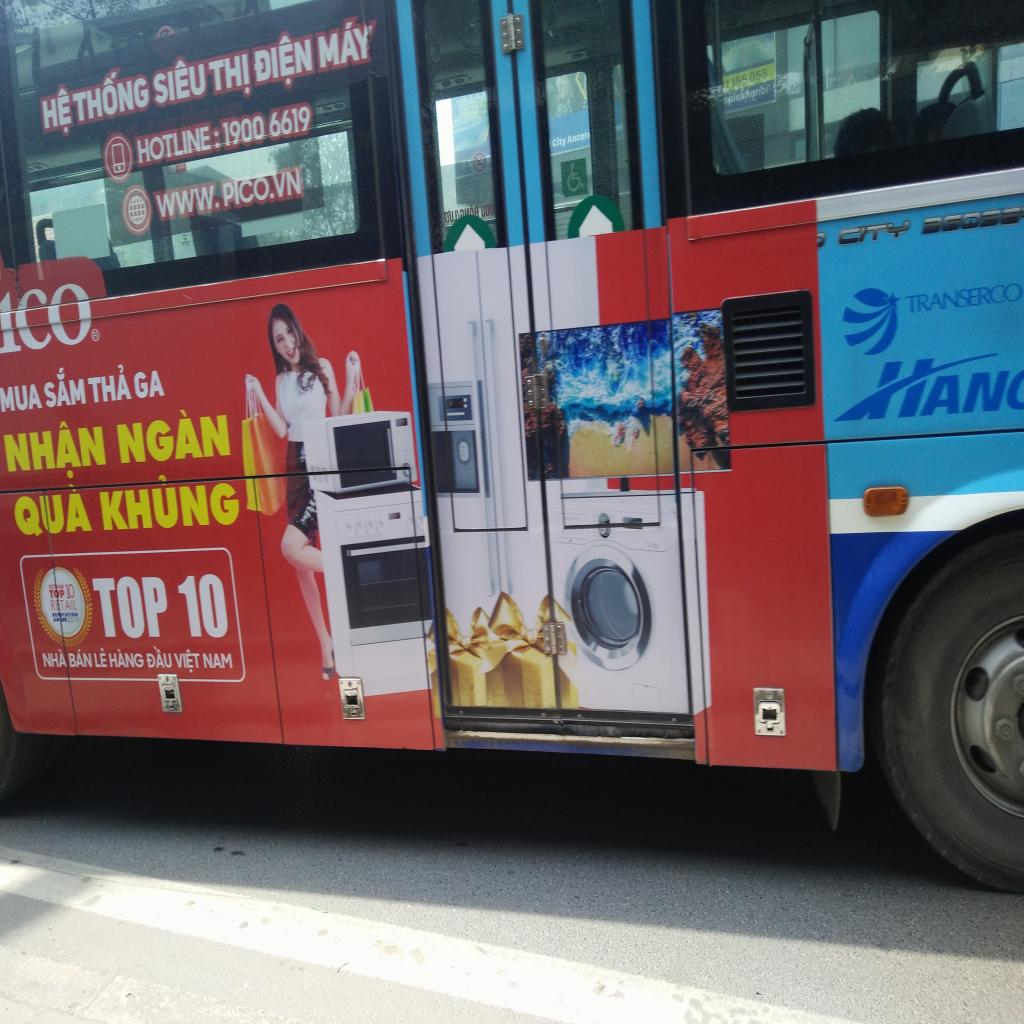text: (824, 350, 1018, 426), (96, 467, 241, 536), (152, 167, 304, 224), (112, 402, 235, 468), (2, 417, 108, 483), (10, 278, 92, 356), (69, 64, 152, 128), (91, 578, 173, 640), (9, 483, 95, 542), (903, 278, 1022, 318), (250, 28, 315, 94), (220, 105, 312, 150), (314, 11, 378, 73), (133, 122, 220, 167), (174, 573, 228, 638), (149, 52, 207, 108), (204, 49, 252, 104), (32, 83, 76, 141), (86, 361, 134, 408), (38, 366, 88, 410), (0, 381, 44, 417), (131, 369, 169, 403), (722, 82, 770, 108), (725, 67, 769, 92), (107, 647, 144, 667), (144, 647, 174, 671), (172, 648, 200, 673), (41, 650, 68, 672), (202, 652, 234, 669), (68, 648, 92, 670), (48, 598, 80, 613), (568, 130, 589, 146), (92, 647, 108, 667), (550, 134, 567, 150), (64, 582, 76, 598), (48, 588, 65, 599)
